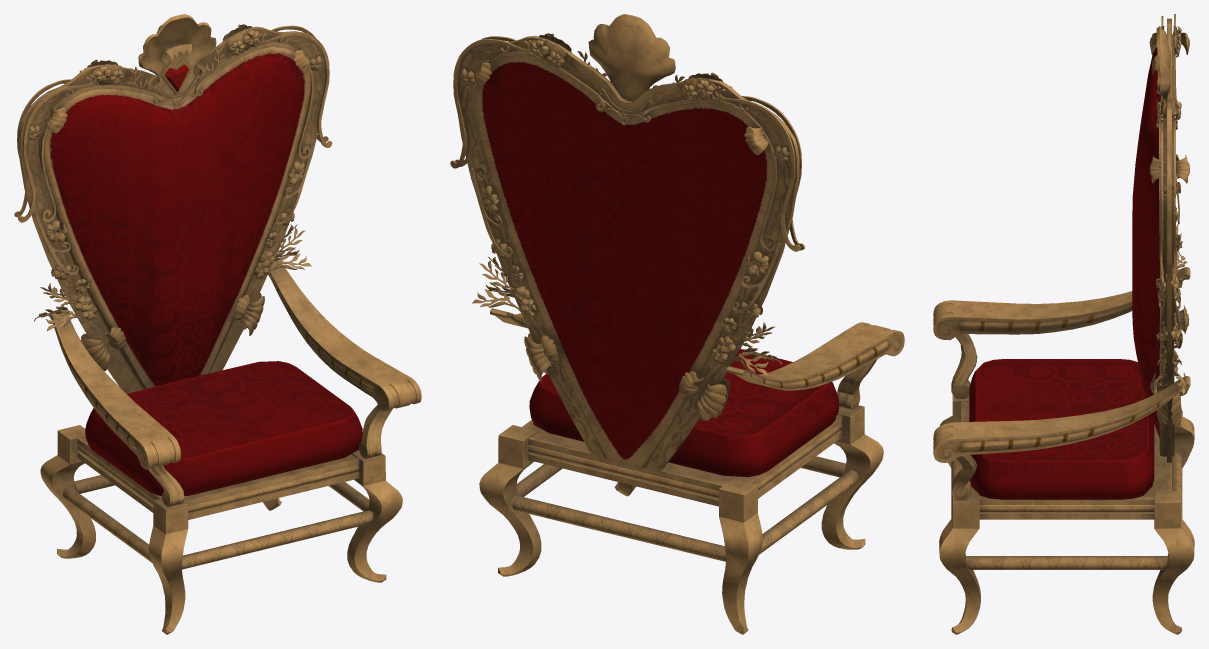
3 renders of one model, left to right at view 1: azimuth 30°, elevation 25°; view 2: azimuth 150°, elevation 25°; view 3: azimuth 270°, elevation 25°, orthographic. The views are drawn at different scales.
Visible parts, largest first — view 1: throne_heart_low, throne_seat_low, throne_arms_low, throne_chair_base_low, throne_legs_low, throne_seat_base_low, throne_legs_base_low, throne_crown_low, throne_curls_003_low, throne_curls_001_low, throne_arms_base_low, throne_leaves_bundle_low (+7 smaller); view 2: throne_chair_base_low, throne_seat_low, throne_legs_low, throne_legs_base_low, throne_seat_base_low, throne_arms_low, throne_crown_low, throne_curls_003_low, throne_curls_001_low, throne_leaves_bundle_low, throne_petals_004_low, throne_seat_holes_low (+6 smaller); view 3: throne_seat_low, throne_arms_low, throne_heart_low, throne_legs_low, throne_seat_base_low, throne_legs_base_low, throne_chair_base_low, throne_arms_base_low, throne_curls_003_low, throne_crown_low, throne_seat_holes_low, throne_curls_001_low (+5 smaller).
Boxes of the visible parts, bbox=[...] form: throne_heart_low: bbox=[38, 42, 311, 389]; throne_seat_low: bbox=[85, 361, 362, 495]; throne_arms_low: bbox=[50, 260, 421, 469]; throne_chair_base_low: bbox=[18, 26, 325, 393]; throne_legs_low: bbox=[40, 425, 402, 634]; throne_seat_base_low: bbox=[77, 428, 359, 519]; throne_legs_base_low: bbox=[63, 475, 373, 569]; throne_crown_low: bbox=[138, 14, 216, 96]; throne_curls_003_low: bbox=[14, 25, 332, 222]; throne_curls_001_low: bbox=[40, 42, 313, 222]; throne_arms_base_low: bbox=[148, 405, 392, 506]; throne_leaves_bundle_low: bbox=[34, 224, 311, 330]; throne_chair_base_low: bbox=[457, 35, 799, 470]; throne_seat_low: bbox=[529, 348, 838, 477]; throne_legs_low: bbox=[479, 405, 883, 634]; throne_legs_base_low: bbox=[512, 456, 858, 561]; throne_seat_base_low: bbox=[522, 414, 842, 506]; throne_arms_low: bbox=[490, 308, 904, 390]; throne_crown_low: bbox=[588, 14, 675, 100]; throne_curls_003_low: bbox=[450, 36, 804, 251]; throne_curls_001_low: bbox=[472, 51, 777, 251]; throne_leaves_bundle_low: bbox=[472, 256, 781, 375]; throne_petals_004_low: bbox=[524, 333, 729, 420]; throne_seat_holes_low: bbox=[526, 423, 753, 484]; throne_seat_low: bbox=[969, 359, 1154, 499]; throne_arms_low: bbox=[933, 267, 1190, 462]; throne_heart_low: bbox=[1132, 34, 1166, 456]; throne_legs_low: bbox=[939, 395, 1194, 634]; throne_seat_base_low: bbox=[961, 401, 1171, 519]; throne_legs_base_low: bbox=[951, 452, 1182, 569]; throne_chair_base_low: bbox=[1167, 18, 1174, 462]; throne_arms_base_low: bbox=[951, 334, 977, 500]; throne_curls_003_low: bbox=[1160, 14, 1177, 288]; throne_crown_low: bbox=[1156, 26, 1171, 117]; throne_seat_holes_low: bbox=[966, 402, 1167, 497]; throne_curls_001_low: bbox=[1156, 31, 1177, 280].
Bounding box in the file's own units: 128 × 204 × 87.65.
Materials: 1 (1 with a texture image).
